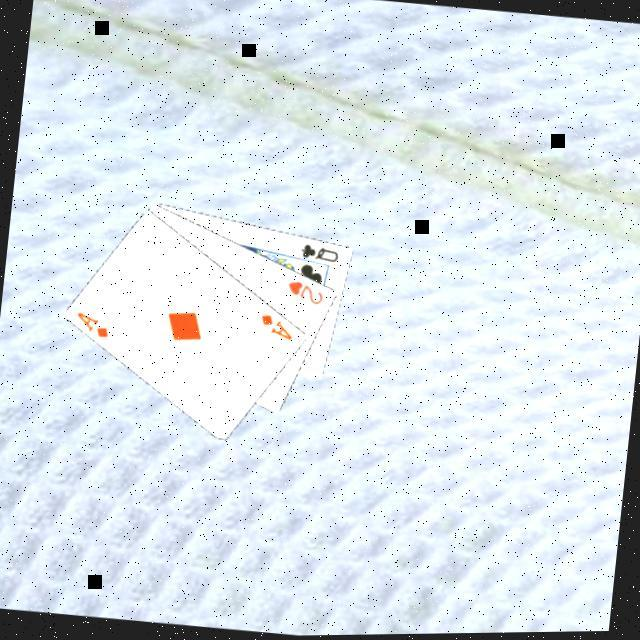2H: (282, 278, 328, 310)
AD: (72, 308, 115, 343), (256, 311, 298, 346)
QC: (297, 240, 343, 268)
